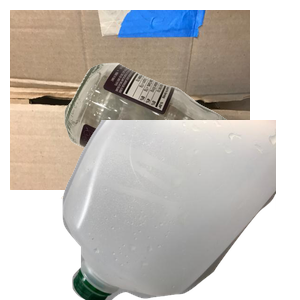cardboard: (10, 10, 250, 190)
glass: (62, 60, 300, 240)
plastic: (60, 120, 300, 300)
trash: (59, 124, 273, 300)
